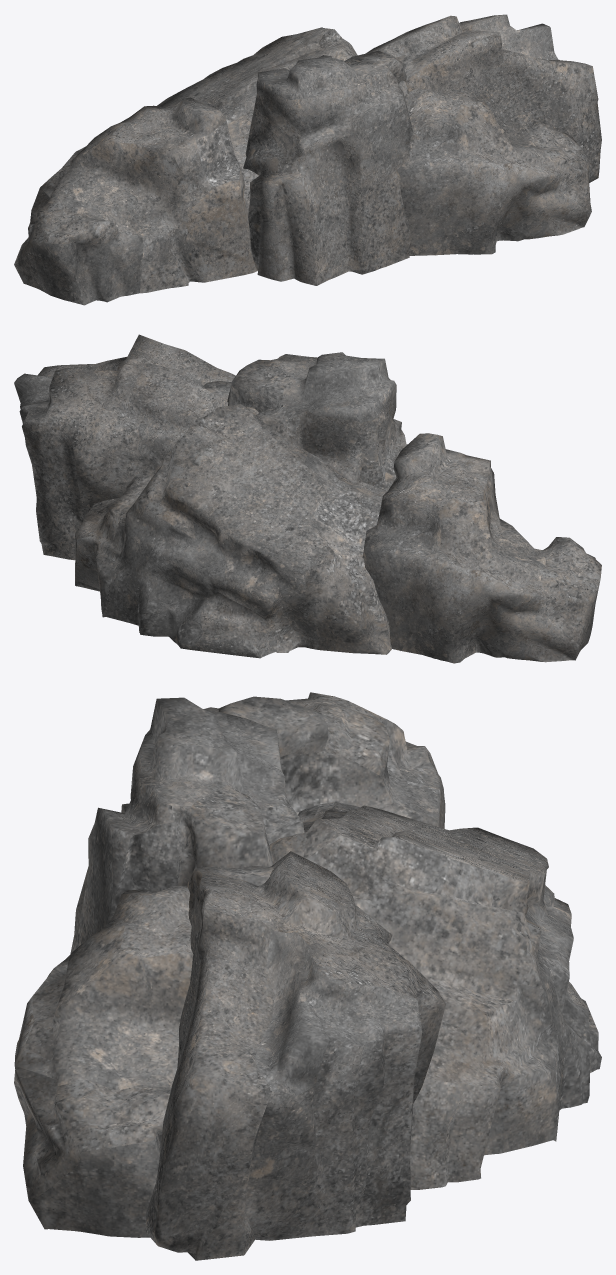
Rendered from SM_GroupedRock_1.fbx.
3 renders of one model, top to bottom at view 1: azimuth 30°, elevation 25°; view 2: azimuth 150°, elevation 25°; view 3: azimuth 270°, elevation 25°, orthographic. The views are drawn at different scales.
Visible parts, largest first — view 1: SM_GroupedRock_1_LOD0; view 2: SM_GroupedRock_1_LOD0; view 3: SM_GroupedRock_1_LOD0.
Part boxes in pixels (left/top/right/bottom): SM_GroupedRock_1_LOD0: left=14, top=14, right=601, bottom=305; SM_GroupedRock_1_LOD0: left=14, top=334, right=601, bottom=663; SM_GroupedRock_1_LOD0: left=14, top=692, right=601, bottom=1260.
Bounding box in the file's own units: 944 × 524 × 318.
